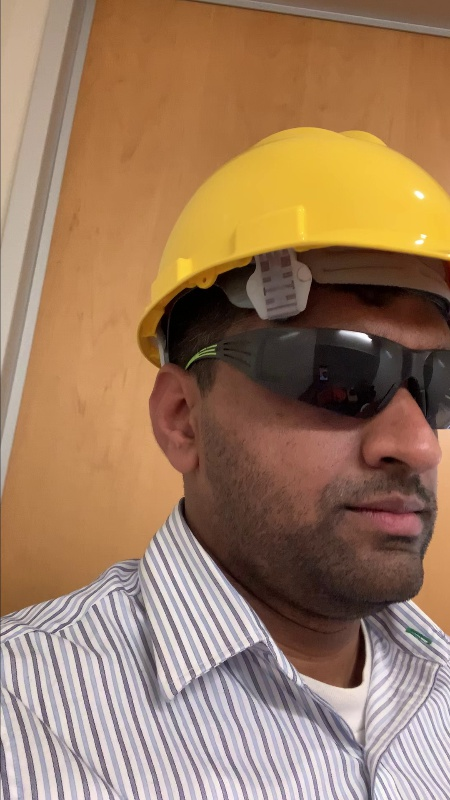glasses: (172, 317, 450, 426)
helmet: (122, 119, 450, 322)
